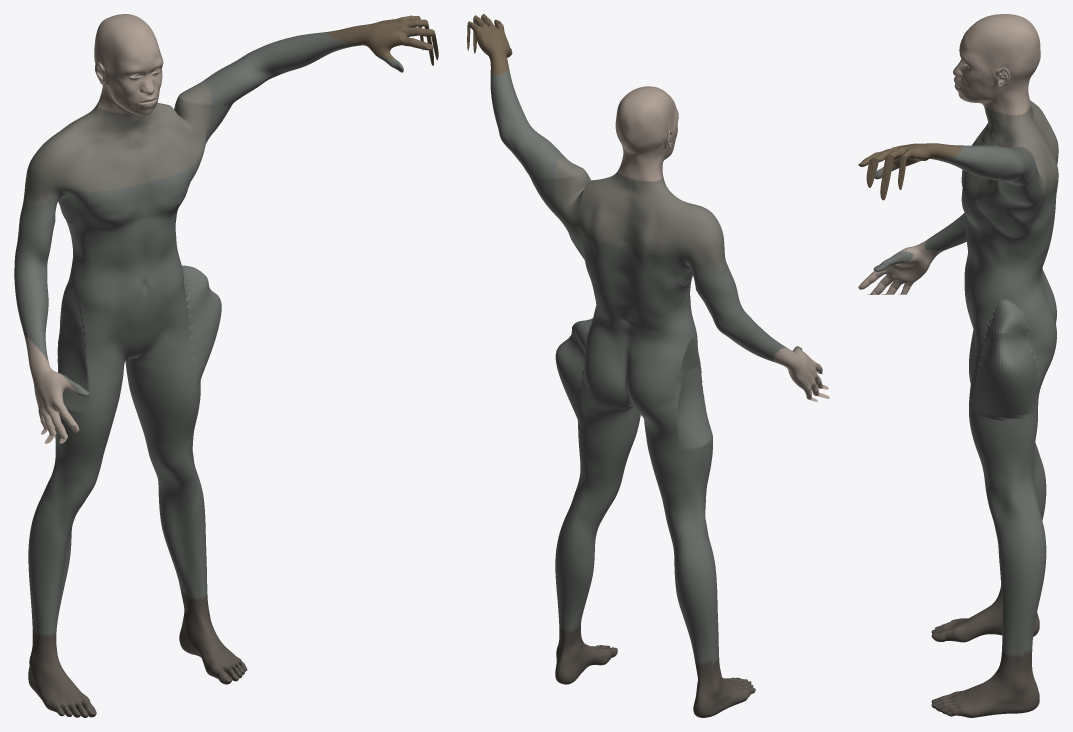
The model's file is falconer.glb.
The picture shows the model from 3 angles, left to right: view 1: azimuth 30°, elevation 25°; view 2: azimuth 150°, elevation 25°; view 3: azimuth 270°, elevation 25°; orthographic projection. The views are drawn at different scales.
Visible parts, largest first — view 1: geometry_0; view 2: geometry_0; view 3: geometry_0.
Boxes of the visible parts, box(x1,y1,x2,y2) form: geometry_0: box(14, 14, 438, 717); geometry_0: box(467, 14, 829, 717); geometry_0: box(858, 14, 1058, 717).
Size of the model in its own units: 1.15 by 1.87 by 0.5161.
